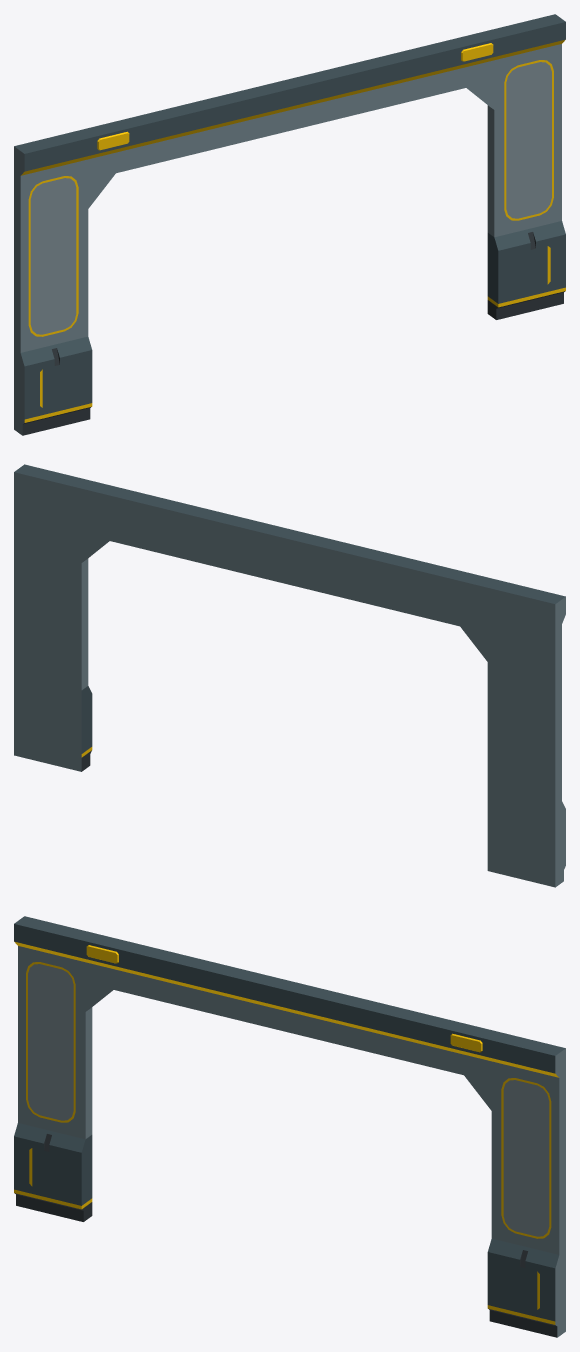
Rendered from Wall_type_C_057.fbx.
3 views of the same model, one above another, from view 1: azimuth 30°, elevation 25°; view 2: azimuth 150°, elevation 25°; view 3: azimuth 330°, elevation 25° (orthographic).
Parts seen in each view (by area): view 1: Wall_type_C_057; view 2: Wall_type_C_057; view 3: Wall_type_C_057.
Part boxes in pixels (x1,y1,x2,y2): Wall_type_C_057: [14, 14, 565, 435]; Wall_type_C_057: [14, 464, 565, 887]; Wall_type_C_057: [14, 916, 565, 1337].
Size of the model in its own units: 800 by 28.98 by 400.
